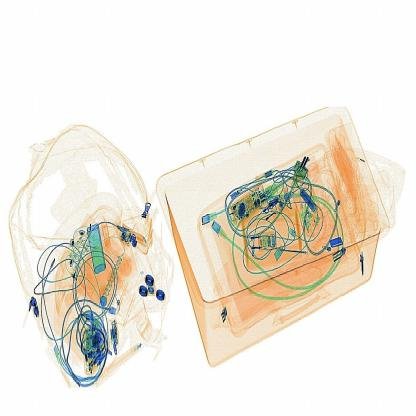wrench: (266, 242, 314, 263)
